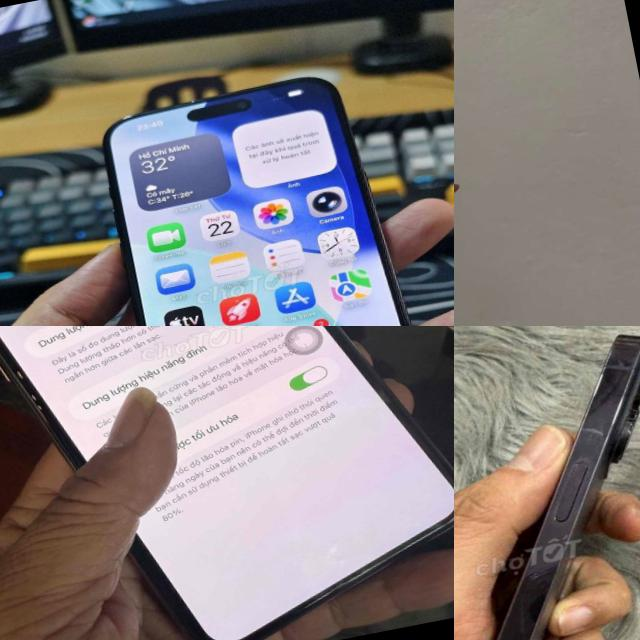scratch: (116, 111, 136, 122), (184, 96, 201, 108)
